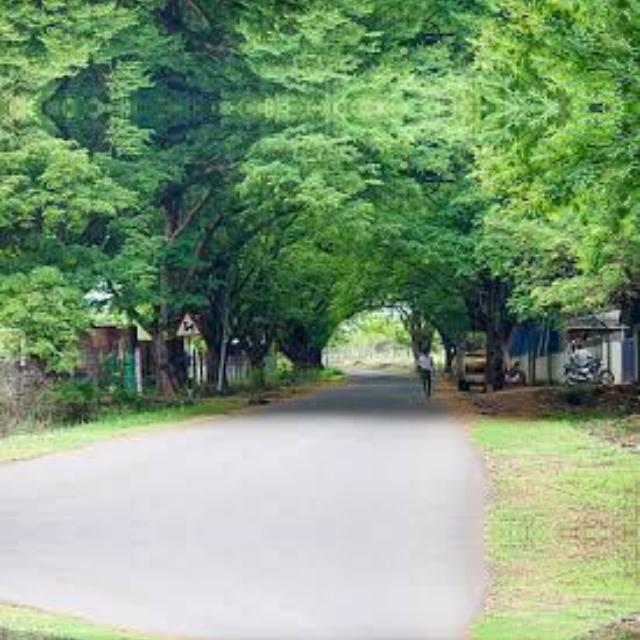obstacle: (123, 256, 215, 402), (470, 235, 548, 397)
